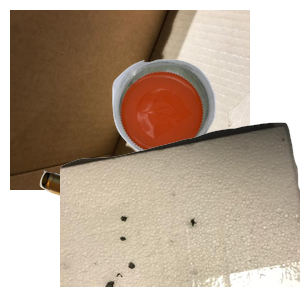cardboard: (10, 10, 250, 190)
glass: (37, 168, 242, 300)
plastic: (110, 57, 300, 205)
trash: (60, 120, 300, 300)
